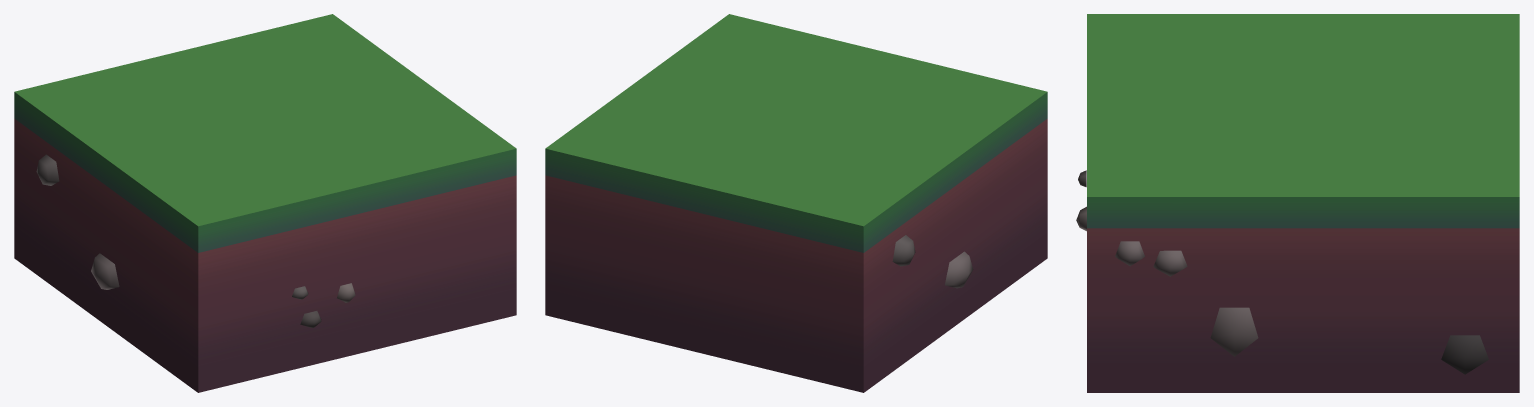
The model's file is GroundTile.fbx.
The picture shows the model from 3 angles, left to right: view 1: azimuth 30°, elevation 25°; view 2: azimuth 150°, elevation 25°; view 3: azimuth 270°, elevation 25°; orthographic projection. The views are drawn at different scales.
Parts seen in each view (by area): view 1: Cube.052; view 2: Cube.052; view 3: Cube.052.
Boxes of the visible parts, <box> form: Cube.052: <box>14,14,516,392</box>; Cube.052: <box>545,14,1047,392</box>; Cube.052: <box>1076,14,1519,392</box>.
Size of the model in its own units: 107 by 50 by 102.
